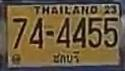4: (29, 17, 42, 48), (72, 16, 85, 46), (56, 17, 69, 47)
5: (88, 16, 102, 47), (103, 16, 117, 46)
7: (12, 17, 26, 48)
CBI: (51, 50, 82, 65)
